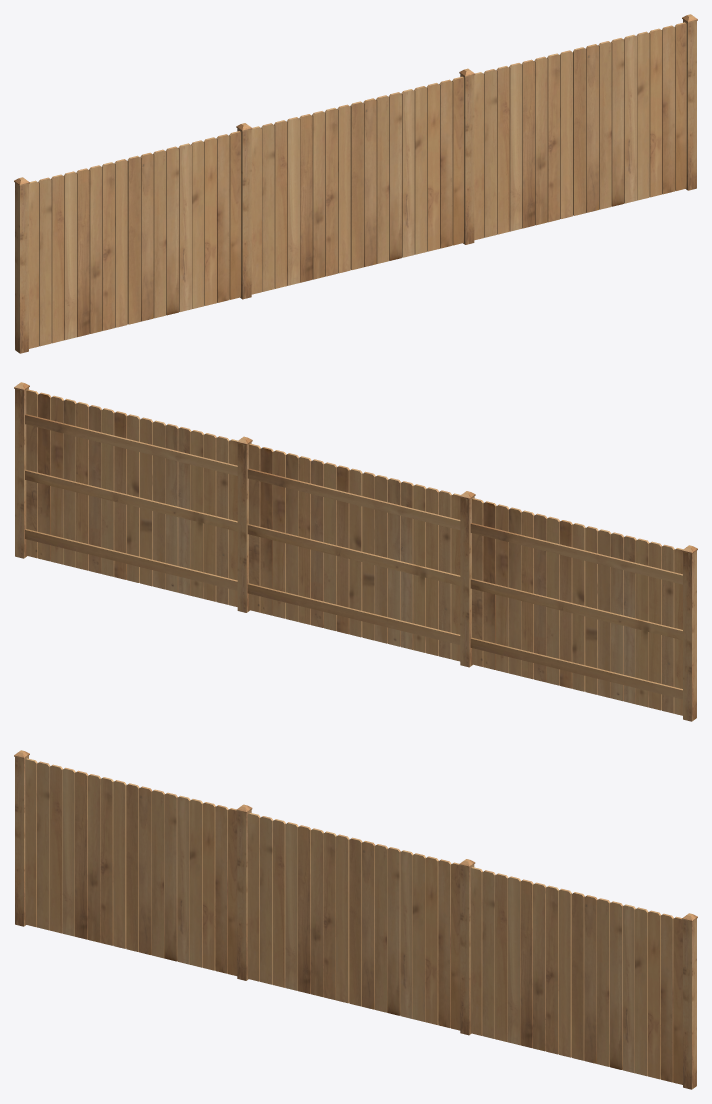
Rendered from Cedar_Fir_Fence_.fbx.
3 renders of one model, top to bottom at view 1: azimuth 30°, elevation 25°; view 2: azimuth 150°, elevation 25°; view 3: azimuth 330°, elevation 25°, orthographic.
Visible parts, largest first — view 1: Cedar_Fence_1, Cedar_Fence_2, Cedar_Fence_, Cedar_Pillar_05, Cedar_Pillar_02, Cedar_Pillar_06, Cedar_Pillar_07; view 2: Cedar_Fence_1, Cedar_Fence_2, Cedar_Fence_, Cedar_Pillar_05, Cedar_Pillar_02, Cedar_Pillar_06, Cedar_Pillar_07; view 3: Cedar_Fence_1, Cedar_Fence_2, Cedar_Fence_, Cedar_Pillar_07, Cedar_Pillar_06, Cedar_Pillar_02, Cedar_Pillar_05.
Part boxes in pixels (box(x1,y1,x2,y2)): Cedar_Fence_1: box(251, 76, 463, 294); Cedar_Fence_2: box(474, 22, 686, 240); Cedar_Fence_: box(29, 131, 240, 348); Cedar_Pillar_05: box(14, 177, 29, 353); Cedar_Pillar_02: box(236, 123, 252, 299); Cedar_Pillar_06: box(459, 68, 475, 244); Cedar_Pillar_07: box(682, 14, 697, 190); Cedar_Fence_1: box(247, 444, 460, 661); Cedar_Fence_2: box(25, 389, 237, 606); Cedar_Fence_: box(470, 498, 682, 715); Cedar_Pillar_05: box(682, 545, 697, 721); Cedar_Pillar_02: box(459, 491, 475, 667); Cedar_Pillar_06: box(236, 436, 252, 612); Cedar_Pillar_07: box(14, 382, 29, 558); Cedar_Fence_1: box(247, 813, 460, 1030); Cedar_Fence_2: box(470, 867, 682, 1084); Cedar_Fence_: box(25, 758, 237, 975); Cedar_Pillar_07: box(682, 913, 697, 1089); Cedar_Pillar_06: box(459, 859, 475, 1035); Cedar_Pillar_02: box(236, 804, 252, 980); Cedar_Pillar_05: box(14, 750, 29, 926).
Size of the model in its own units: 762 by 185 by 11.35.
1 material, 1 textured.
